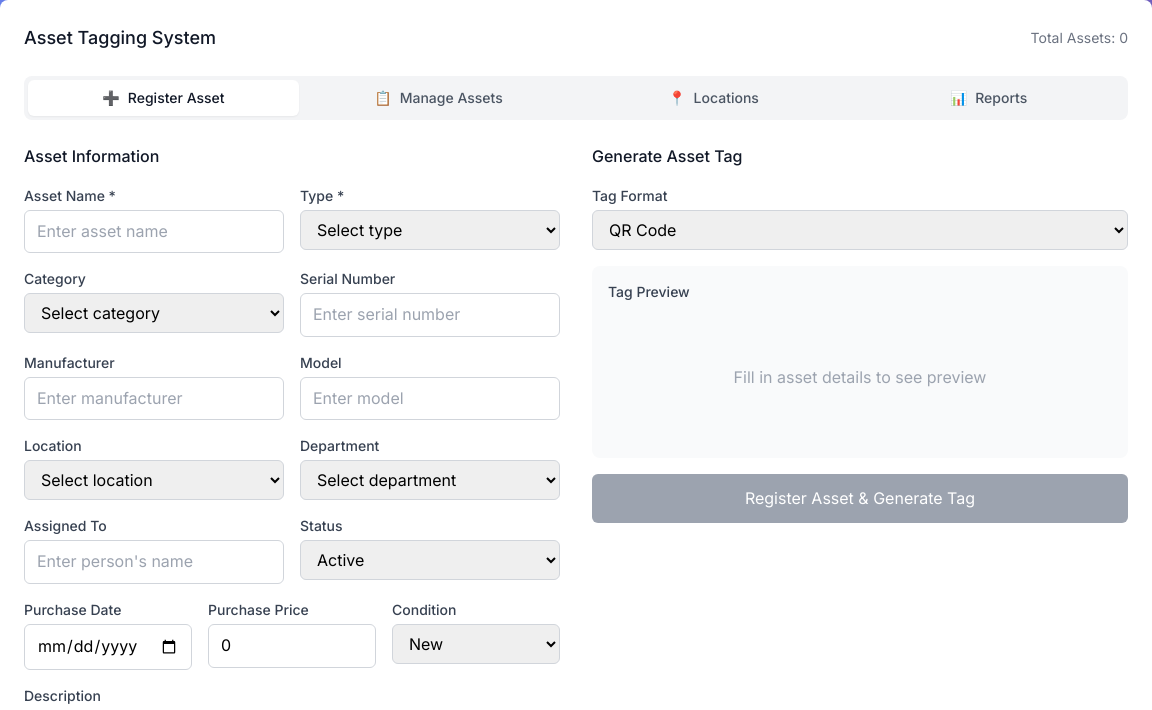
Test: AssetTaggingSystem › shows reports view
The width and height of the screenshot is (1152, 710).
Click the button "📊Reports". click: [988, 98]
box: [853,80,1124,116]
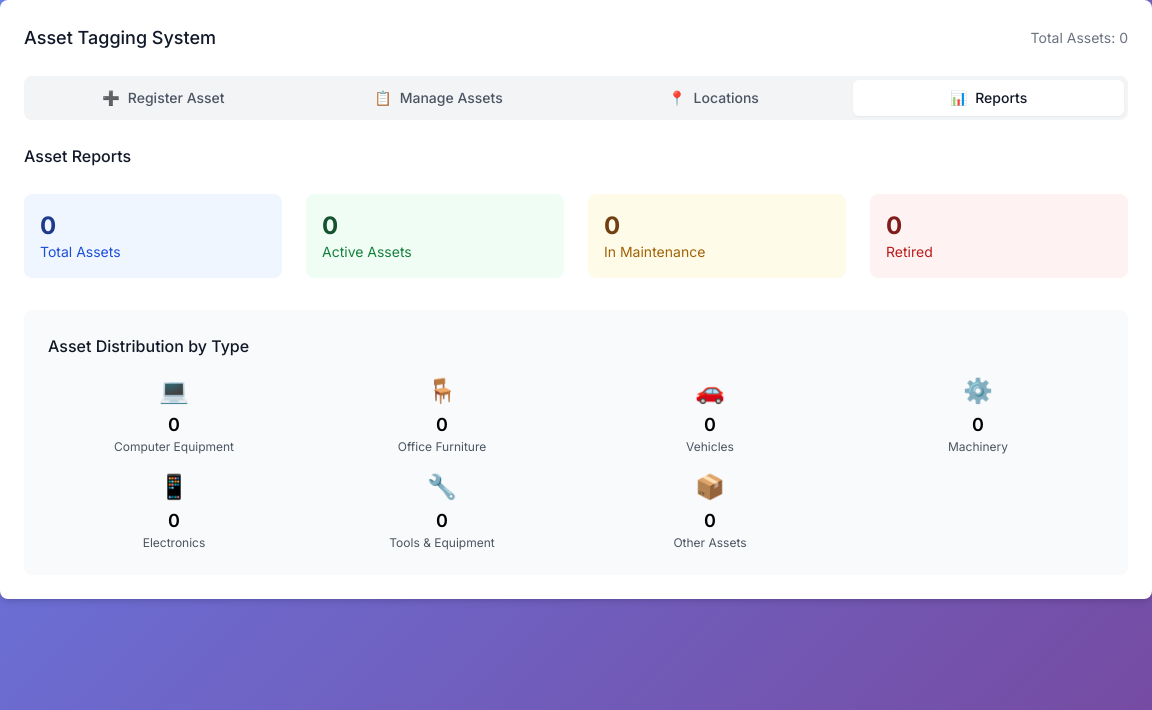
Now the heading "Asset Reports" is shown, box [24,146,131,166]
Now the text "Total Assets" is shown, box [40,243,121,260]
Now the text "Active Assets" is shown, box [322,243,412,260]
